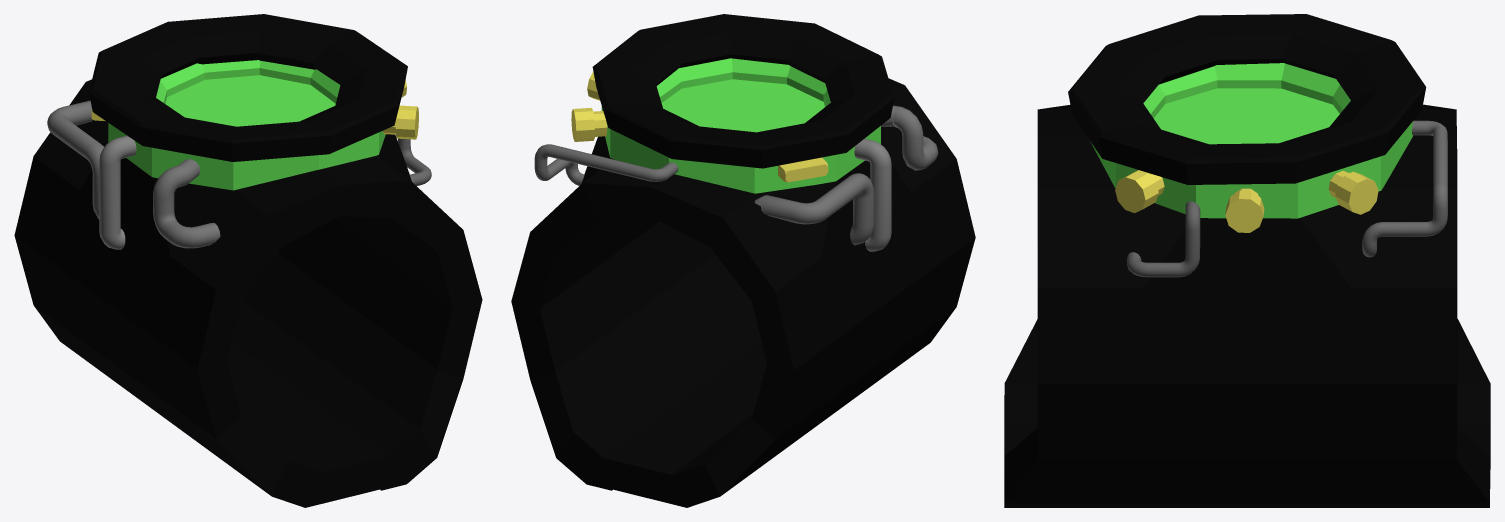
The model's file is JamTanganReal.glb.
3 renders of one model, left to right at view 1: azimuth 30°, elevation 25°; view 2: azimuth 150°, elevation 25°; view 3: azimuth 270°, elevation 25°, orthographic. The views are drawn at different scales.
Parts seen in each view (by area): view 1: strap, Puterputer, Base, Tube1, Tube2, Tube3, Mekanik3, Tube4; view 2: strap, Puterputer, Base, Tube3, Tube5, Tube2, Tube1, Mekanik1, Tombol; view 3: strap, Puterputer, Base, Tube5, Tube4, Mekanik1, Mekanik3, Mekanik2.
Part boxes in pixels (box(x1,y1,x2,y2)): strap: box(14, 79, 482, 507); Puterputer: box(89, 14, 407, 161); Base: box(108, 60, 385, 190); Tube1: box(153, 159, 220, 248); Tube2: box(99, 135, 136, 249); Tube3: box(47, 100, 103, 219); Mekanik3: box(383, 105, 418, 139); Tube4: box(398, 138, 431, 185); strap: box(511, 78, 975, 507); Puterputer: box(592, 14, 894, 168); Base: box(601, 58, 880, 193); Tube3: box(754, 173, 874, 245); Tube5: box(534, 144, 678, 185); Tube2: box(854, 138, 891, 251); Tube1: box(881, 105, 938, 170); Mekanik1: box(571, 108, 607, 141); Tombol: box(778, 157, 828, 182); strap: box(1004, 104, 1490, 507); Puterputer: box(1068, 14, 1426, 184); Base: box(1090, 63, 1412, 218); Tube5: box(1362, 120, 1447, 257); Tube4: box(1127, 201, 1200, 277); Mekanik1: box(1328, 170, 1378, 214); Mekanik3: box(1115, 170, 1164, 213); Mekanik2: box(1225, 188, 1264, 232).
Bounding box in the file's own units: 3.23 × 3.56 × 3.98.
